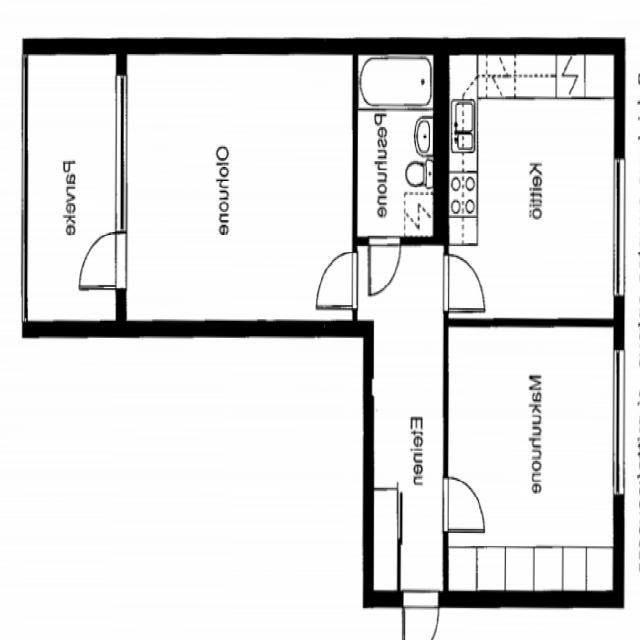door: (80, 232, 126, 289), (316, 253, 357, 309), (444, 256, 484, 312), (444, 477, 484, 532), (368, 238, 400, 296), (402, 591, 438, 640)
